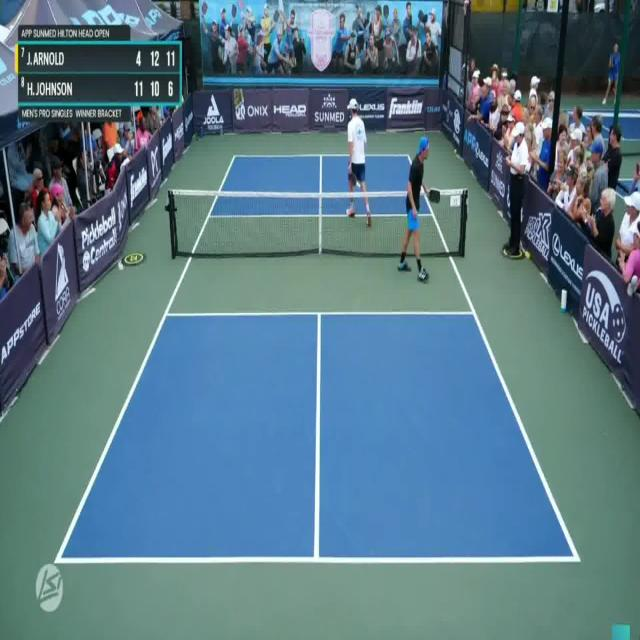Court: (55, 155, 579, 559)
